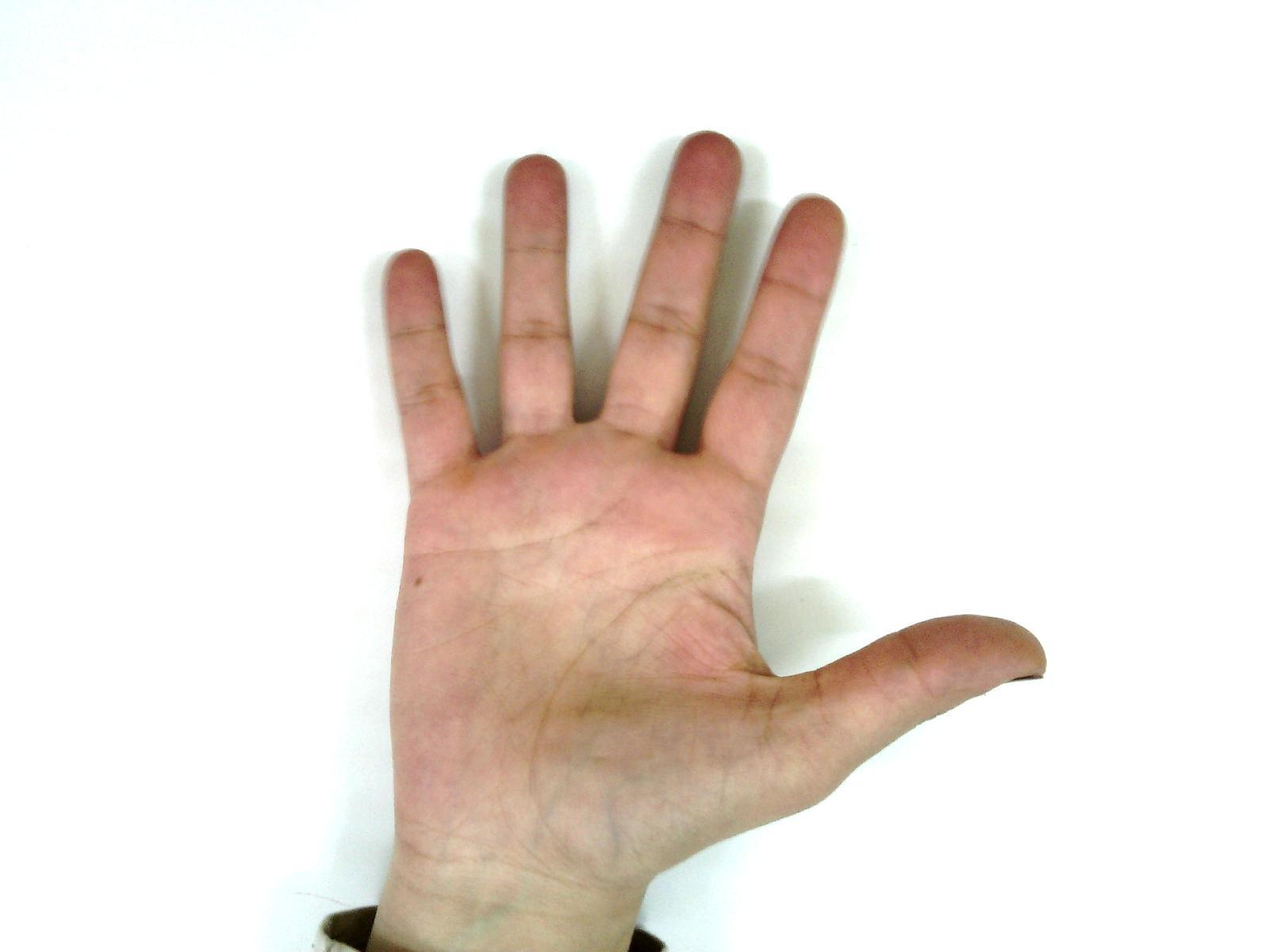open_palm: (322, 130, 1049, 892)
